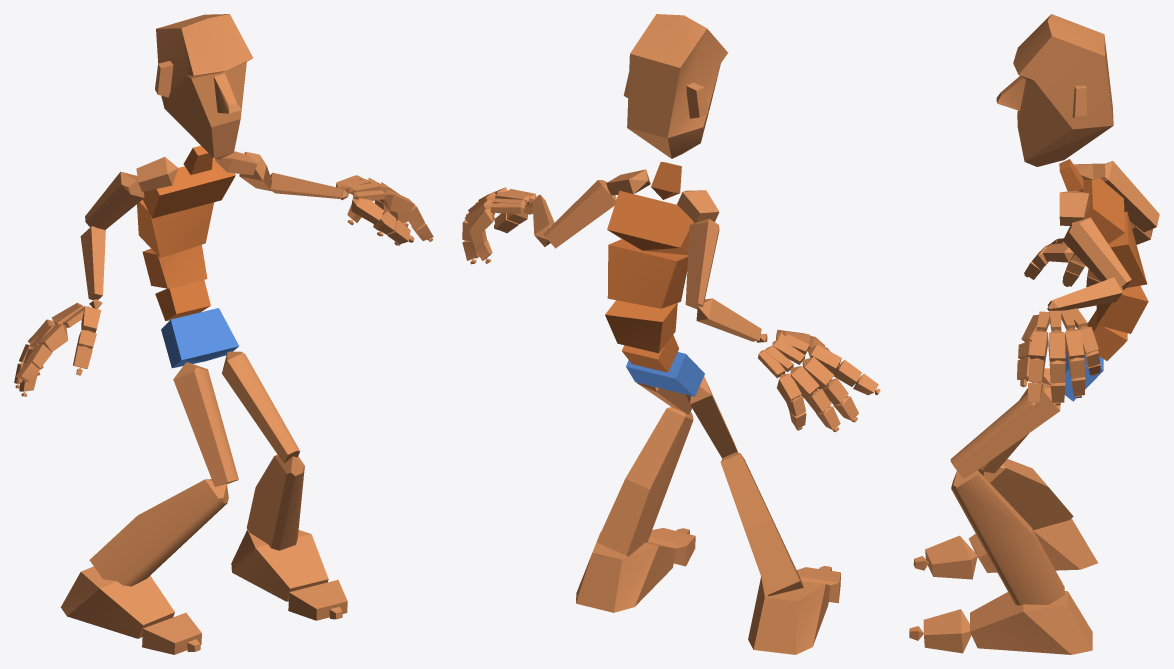
File: prueba256.obj
The picture shows the model from 3 angles, left to right: view 1: azimuth 30°, elevation 25°; view 2: azimuth 150°, elevation 25°; view 3: azimuth 270°, elevation 25°; orthographic projection. The views are drawn at different scales.
Parts seen in each view (by area): view 1: BOPED_Head, BOPED_R_leg, BOPED_R_foot, BOPED_R_foot01, BOPED_L_leg, BOPED_R_legup, Bone01, BOPED_L_legup, Bone04, Bone05, Bone03, BOPED_R_arm_upper (+9 smaller); view 2: BOPED_Head, BOPED_L_leg, BOPED_R_foot01, BOPED_R_foot, BOPED_R_leg, Bone04, Bone05, Bone03, BOPED_R_arm_upper, BOPED_L_arm_upper, Bone01, BOPED_R_legup (+9 smaller); view 3: BOPED_Head, BOPED_L_leg, BOPED_R_foot01, BOPED_L_legup, BOPED_R_leg, BOPED_R_foot, BOPED_L_arm_upper, Bone05, BOPED_R_foot_toe01, BOPED_R_arm_upper, BOPED_R_foot_toe04, Bone03 (+13 smaller).
Part boxes in pixels (x1,y1,x2,y2): BOPED_Head: (155, 14, 252, 159); BOPED_R_leg: (89, 479, 228, 586); BOPED_R_foot: (60, 566, 174, 638); BOPED_R_foot01: (231, 529, 328, 601); BOPED_L_leg: (246, 454, 304, 550); BOPED_R_legup: (173, 362, 238, 486); Bone01: (161, 308, 238, 368); BOPED_L_legup: (222, 351, 300, 463); Bone04: (137, 200, 213, 257); Bone05: (142, 158, 235, 218); Bone03: (142, 244, 207, 288); BOPED_R_arm_upper: (85, 171, 144, 229); BOPED_Head: (623, 14, 727, 158); BOPED_L_leg: (596, 407, 693, 556); BOPED_R_foot01: (576, 532, 676, 612); BOPED_R_foot: (748, 577, 830, 654); BOPED_R_leg: (720, 452, 803, 596); Bone04: (607, 239, 687, 308); Bone05: (607, 190, 694, 254); Bone03: (605, 300, 677, 353); BOPED_R_arm_upper: (685, 219, 719, 308); BOPED_L_arm_upper: (543, 180, 616, 248); Bone01: (626, 352, 704, 396); BOPED_R_legup: (686, 376, 737, 458); BOPED_Head: (996, 14, 1113, 166); BOPED_L_leg: (951, 470, 1064, 605); BOPED_R_foot01: (970, 591, 1092, 654); BOPED_L_legup: (950, 382, 1060, 478); BOPED_R_leg: (978, 459, 1073, 530); BOPED_R_foot: (968, 518, 1097, 572); BOPED_L_arm_upper: (1063, 217, 1131, 289); Bone05: (1082, 178, 1124, 243); BOPED_R_foot_toe01: (925, 535, 977, 579); BOPED_R_arm_upper: (1100, 161, 1159, 232); BOPED_R_foot_toe04: (923, 609, 971, 653); Bone03: (1096, 285, 1148, 333).
Size of the model in its own units: 130 by 175 by 67.37.
